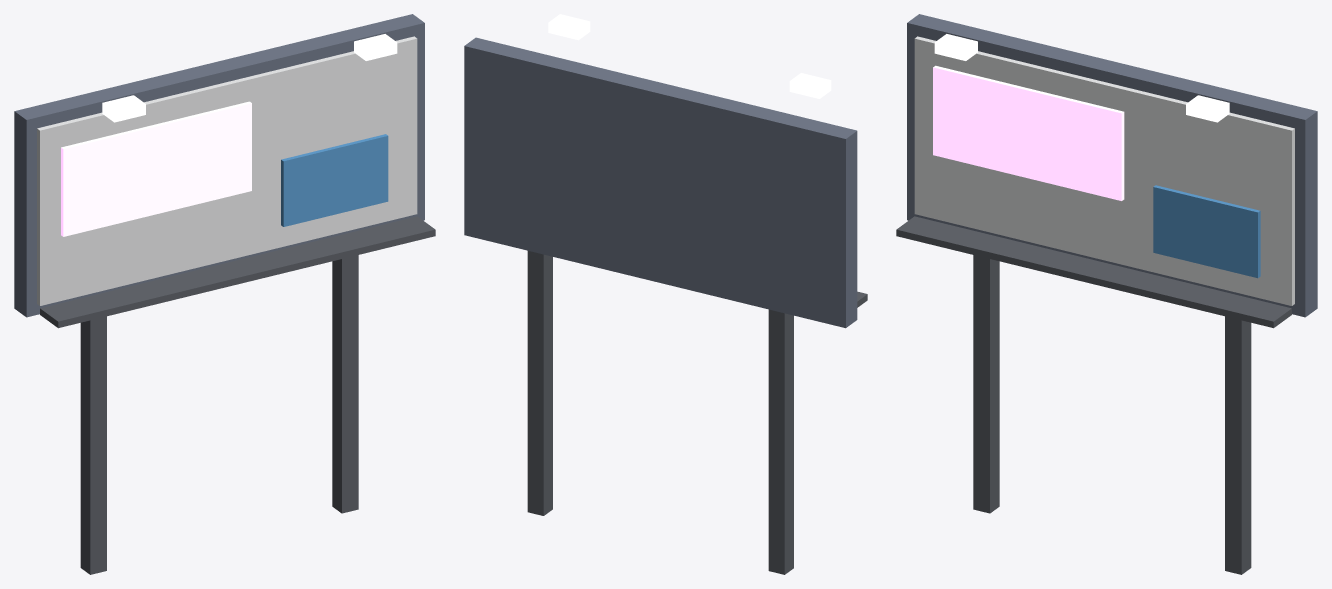
File: billboard.glb
The picture shows the model from 3 angles, left to right: view 1: azimuth 30°, elevation 25°; view 2: azimuth 150°, elevation 25°; view 3: azimuth 330°, elevation 25°; orthographic projection. The views are drawn at different scales.
Parts seen in each view (by area): view 1: billboard_body, Bulb_0, Bulb_1; view 2: billboard_body, Bulb_1, Bulb_0; view 3: billboard_body, Bulb_1, Bulb_0.
Part boxes in pixels (x1,y1,x2,y2): billboard_body: [14, 14, 435, 574]; Bulb_0: [102, 95, 145, 122]; Bulb_1: [354, 34, 397, 60]; billboard_body: [464, 37, 867, 574]; Bulb_1: [548, 14, 590, 40]; Bulb_0: [789, 73, 831, 98]; billboard_body: [896, 14, 1317, 574]; Bulb_1: [1186, 95, 1229, 122]; Bulb_0: [934, 34, 977, 60].
Size of the model in its own units: 0.38 by 0.445 by 0.07.
